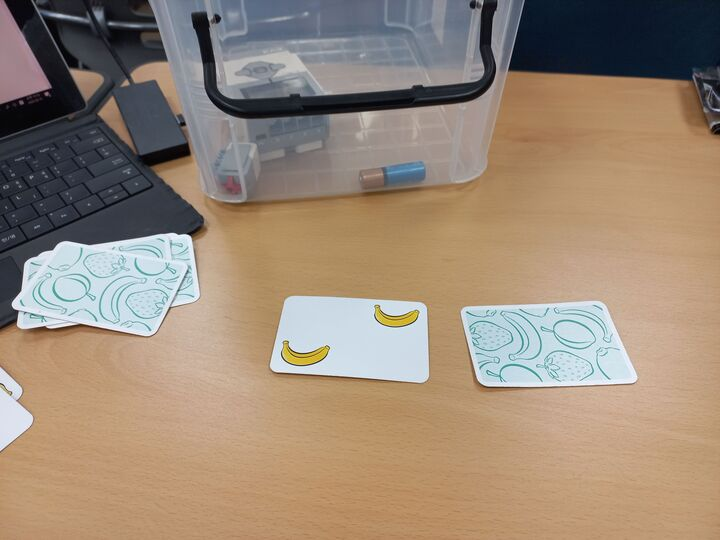banana2: (262, 291, 432, 386)
